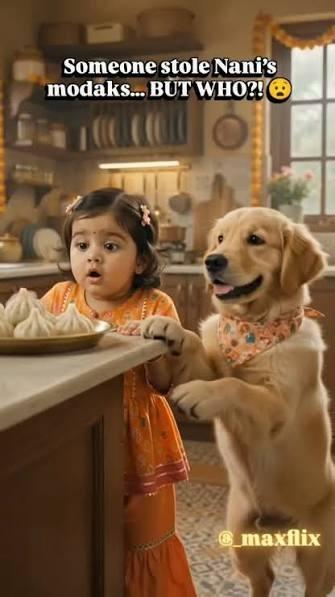adult_dog: (140, 207, 335, 597)
non-dog: (37, 186, 196, 597)
